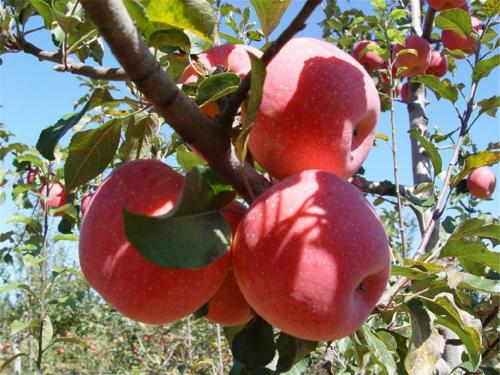apple: (232, 168, 392, 341)
obscured(0)_apple: (242, 37, 381, 184)
obscured(1)_apple: (78, 159, 230, 325)
